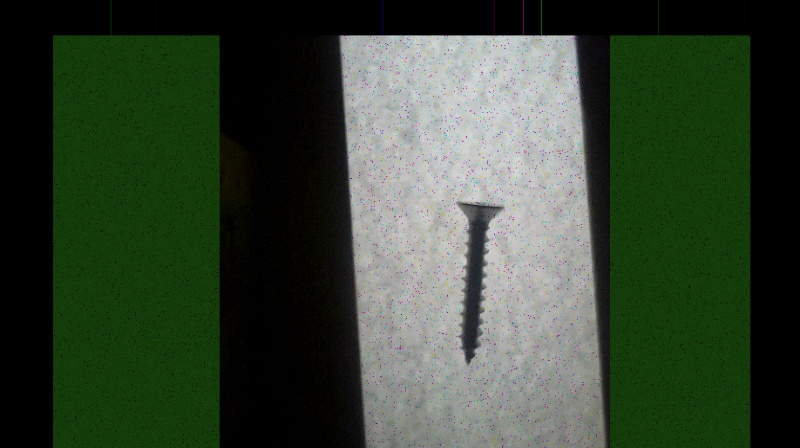S001: (449, 197, 503, 367)
